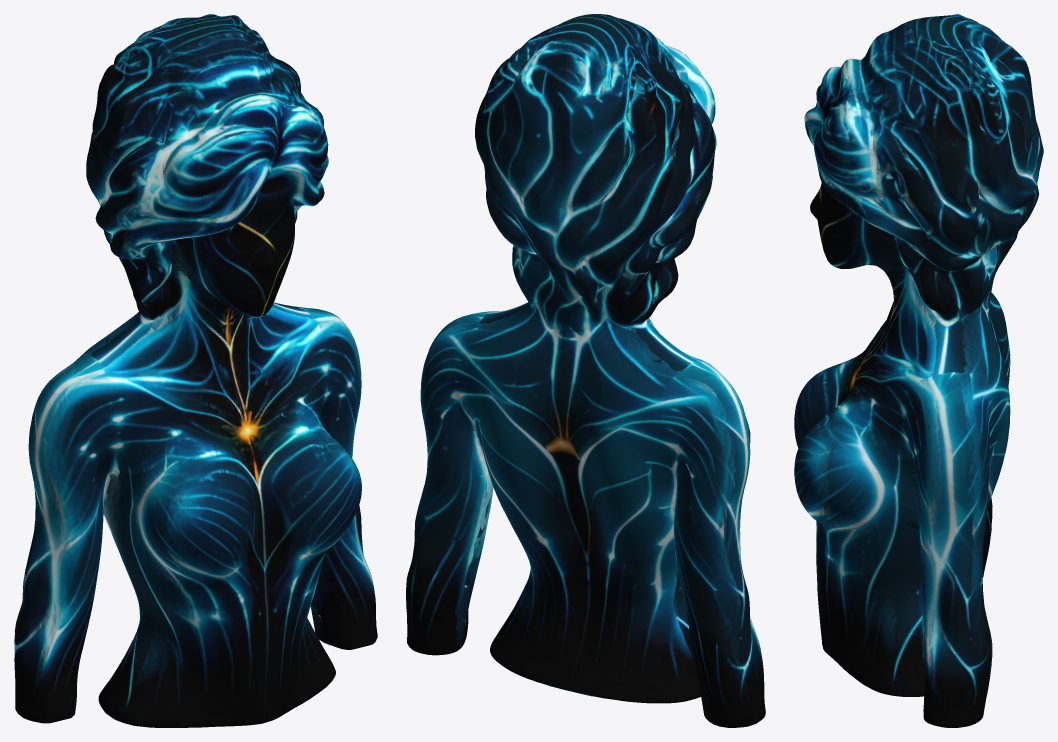
3 renders of one model, left to right at view 1: azimuth 30°, elevation 25°; view 2: azimuth 150°, elevation 25°; view 3: azimuth 270°, elevation 25°, orthographic. The views are drawn at different scales.
Parts seen in each view (by area): view 1: textured_mesh; view 2: textured_mesh; view 3: textured_mesh.
Part boxes in pixels (box(x1,y1,x2,y2)): textured_mesh: box(14, 14, 377, 727); textured_mesh: box(406, 14, 765, 727); textured_mesh: box(794, 14, 1043, 727).
Size of the model in its own units: 1.12 by 1.99 by 0.7227.
1 material, 1 textured.
